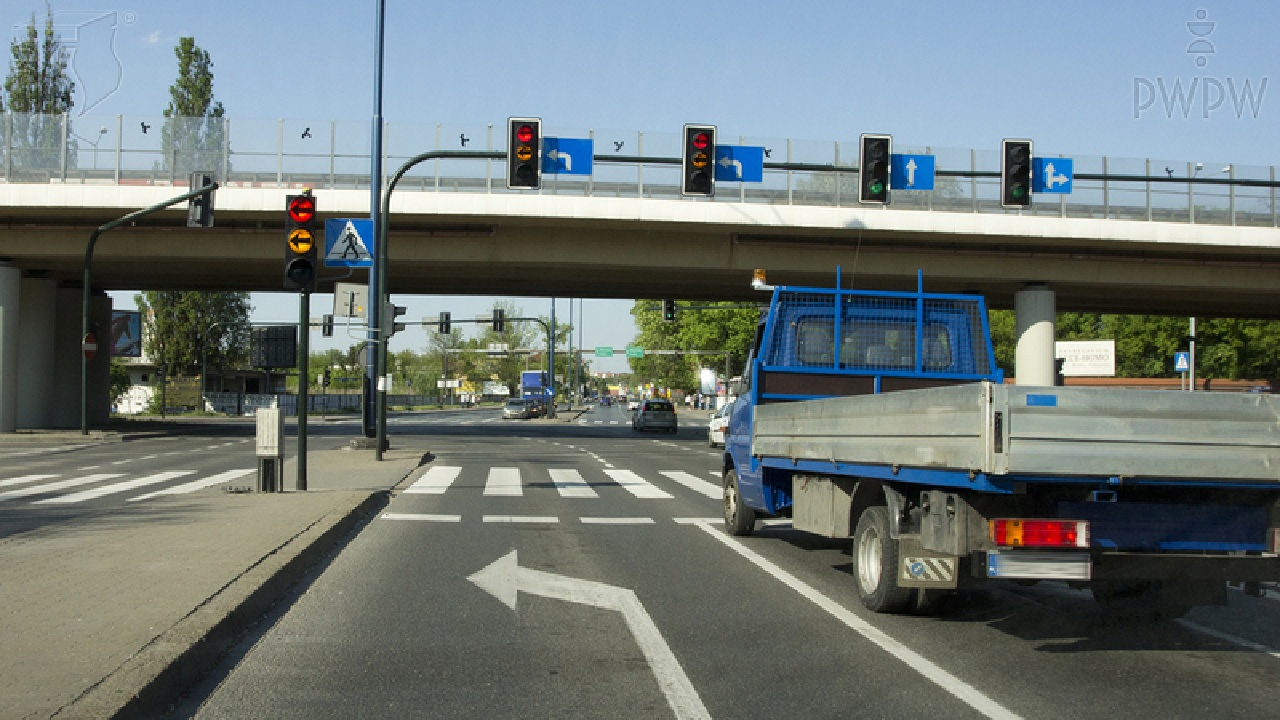D6: (324, 217, 376, 268)
Green: (863, 137, 887, 200), (1004, 142, 1026, 204)
